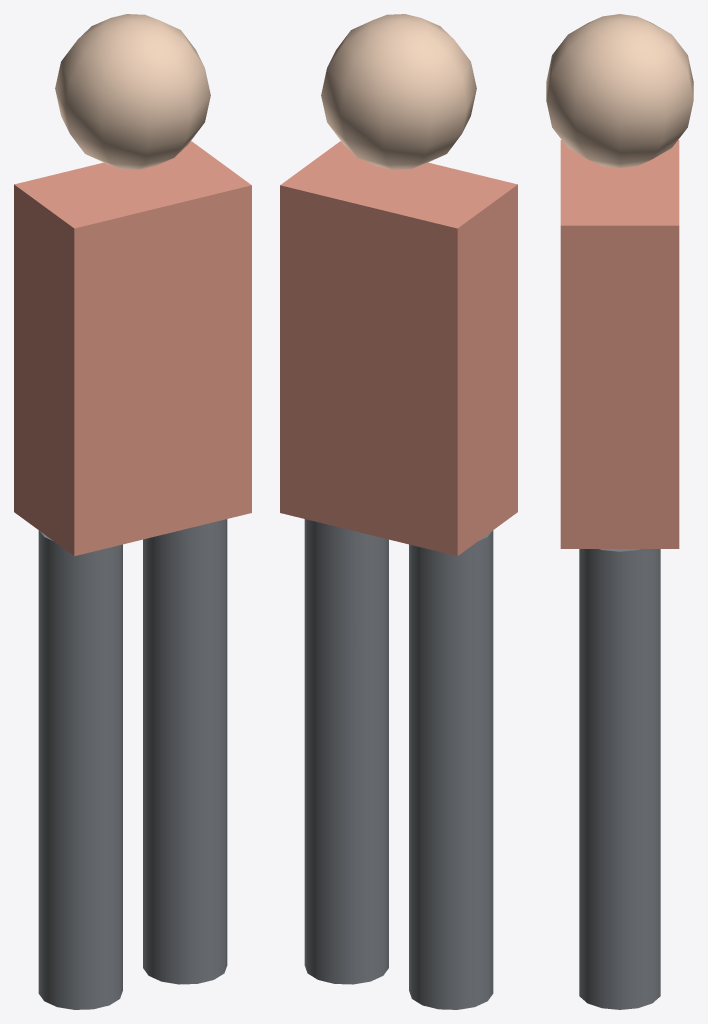
Rendered from Pedestrian.glb.
3 views of the same model, side by side, from view 1: azimuth 30°, elevation 25°; view 2: azimuth 150°, elevation 25°; view 3: azimuth 270°, elevation 25° (orthographic).
Visible parts, largest first — view 1: model; view 2: model; view 3: model.
Boxes of the visible parts, <box> form: model: <box>14,14,251,1009</box>; model: <box>280,14,517,1009</box>; model: <box>546,14,693,1009</box>.
Size of the model in its own units: 0.34 by 1.75 by 0.2473.
